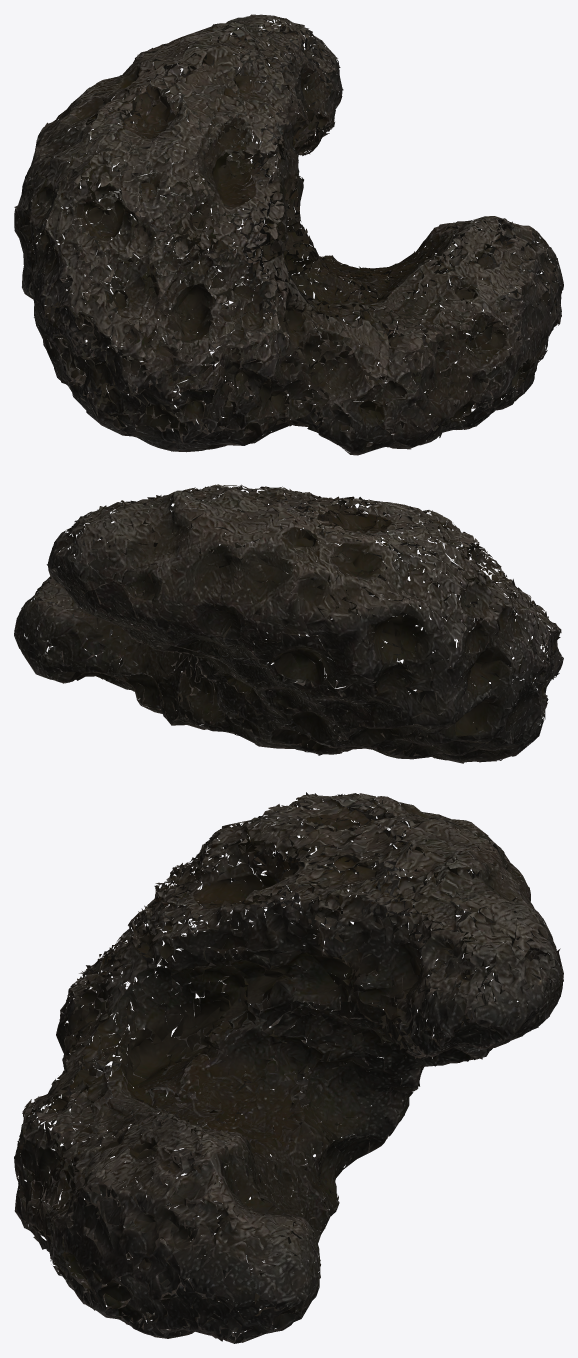
The model's file is asteroid_rare_2.glb.
3 views of the same model, one above another, from view 1: azimuth 30°, elevation 25°; view 2: azimuth 150°, elevation 25°; view 3: azimuth 270°, elevation 25° (orthographic). The views are drawn at different scales.
Visible parts, largest first — view 1: model; view 2: model; view 3: model.
Part boxes in pixels (x1,y1,x2,y2): model: [14, 14, 563, 455]; model: [14, 484, 563, 763]; model: [14, 792, 563, 1343].
Bounding box in the file's own units: 1.9 × 1.16 × 1.45.
Materials: 1 (1 with a texture image).
